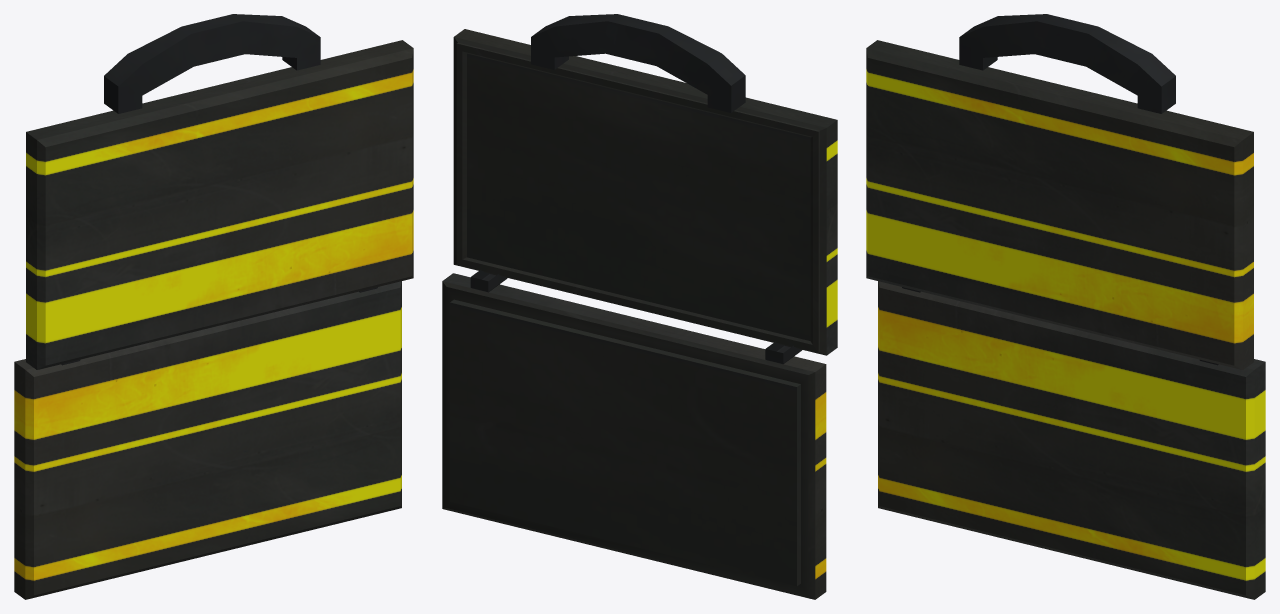
File: open tool case.fbx
The picture shows the model from 3 angles, left to right: view 1: azimuth 30°, elevation 25°; view 2: azimuth 150°, elevation 25°; view 3: azimuth 330°, elevation 25°; orthographic projection.
Parts seen in each view (by area): view 1: open_tool_case; view 2: open_tool_case; view 3: open_tool_case.
Part boxes in pixels (x1,y1,x2,y2): open_tool_case: (14, 14, 413, 599); open_tool_case: (442, 14, 837, 599); open_tool_case: (866, 14, 1265, 599).
Bounding box in the file's own units: 0.7086 × 0.9509 × 0.1026.
